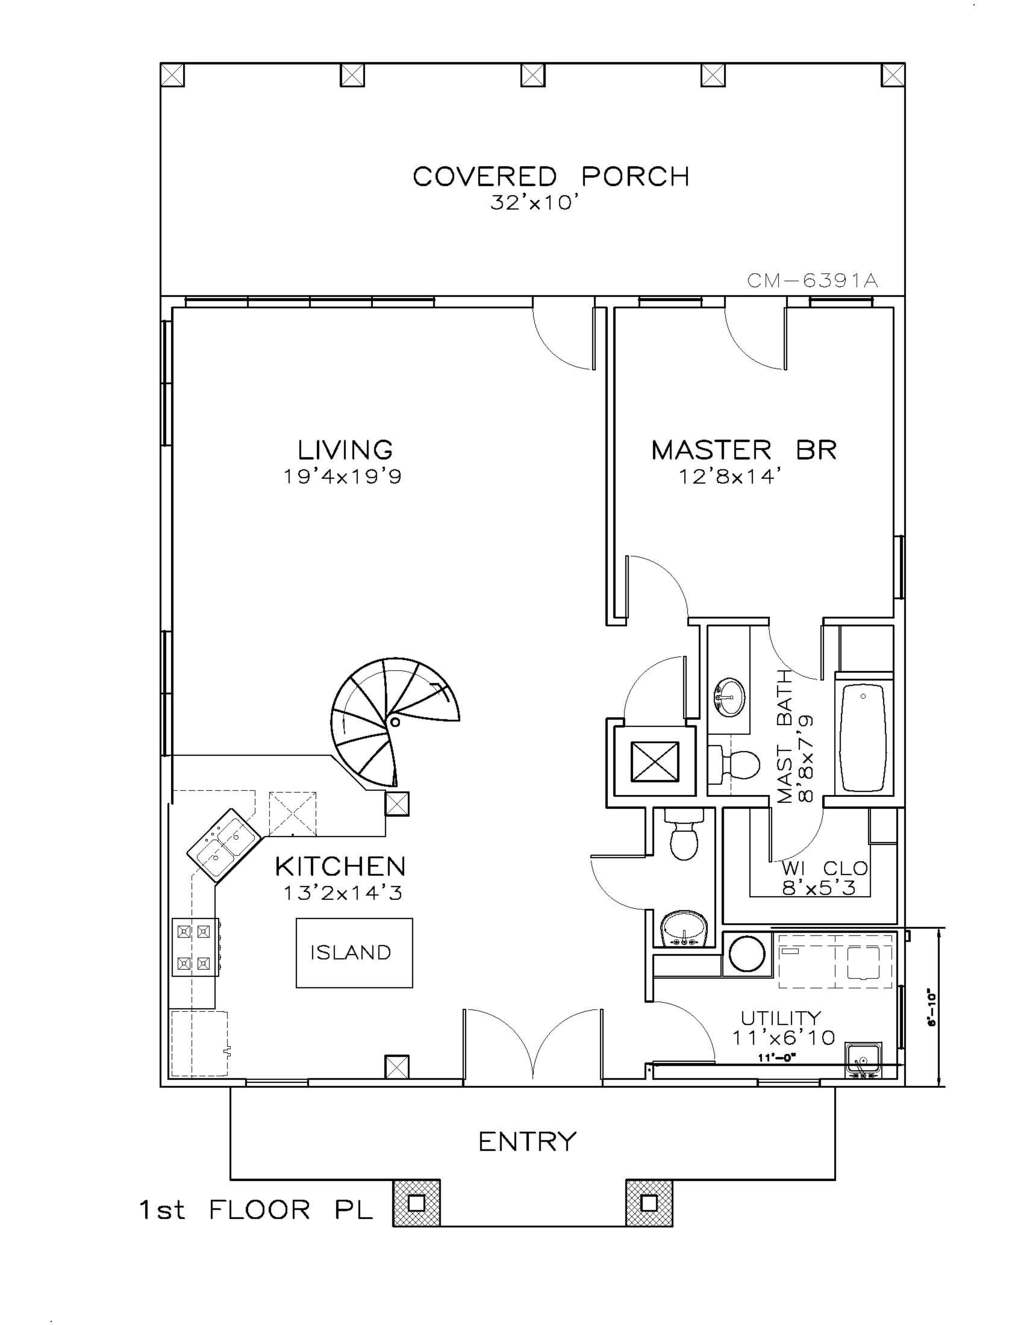coffee_table: (630, 736, 684, 788)
door: (452, 1002, 608, 1087), (524, 286, 601, 376), (639, 995, 717, 1063), (620, 656, 700, 722), (724, 294, 793, 367), (759, 794, 828, 866), (622, 552, 689, 622), (760, 617, 828, 683), (589, 845, 649, 914)
large_sink: (655, 804, 710, 866), (706, 739, 763, 788)
small_sink: (708, 660, 746, 729), (651, 904, 713, 946)
stairs: (322, 652, 460, 790)
tub: (831, 683, 893, 797)
twin_sink: (187, 804, 260, 880)
windows: (179, 281, 441, 314), (153, 624, 182, 752), (152, 314, 179, 448), (634, 287, 703, 319)
